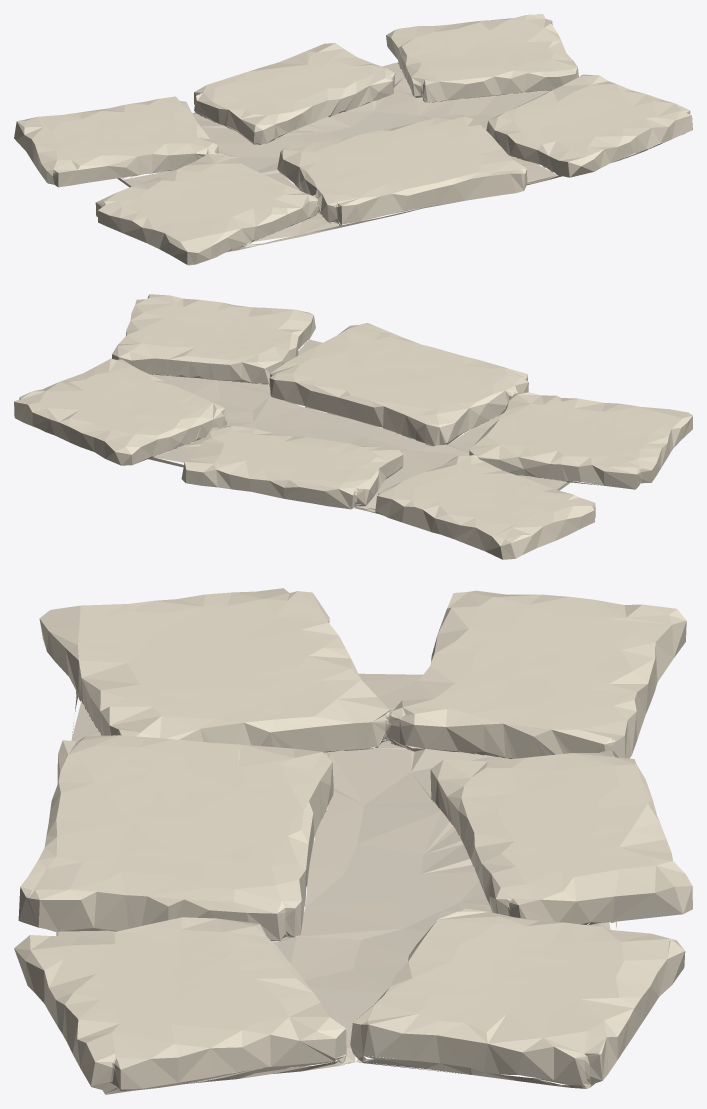
File: meshy-court-flagstones.glb
3 views of the same model, one above another, from view 1: azimuth 30°, elevation 25°; view 2: azimuth 150°, elevation 25°; view 3: azimuth 270°, elevation 25° (orthographic). The views are drawn at different scales.
Visible parts, largest first — view 1: mesh_node; view 2: mesh_node; view 3: mesh_node.
Part boxes in pixels (bbox=[...]): mesh_node: bbox=[14, 14, 692, 265]; mesh_node: bbox=[14, 294, 692, 559]; mesh_node: bbox=[14, 588, 692, 1094].
Bounding box in the file's own units: 1.9 × 0.0842 × 1.13.
